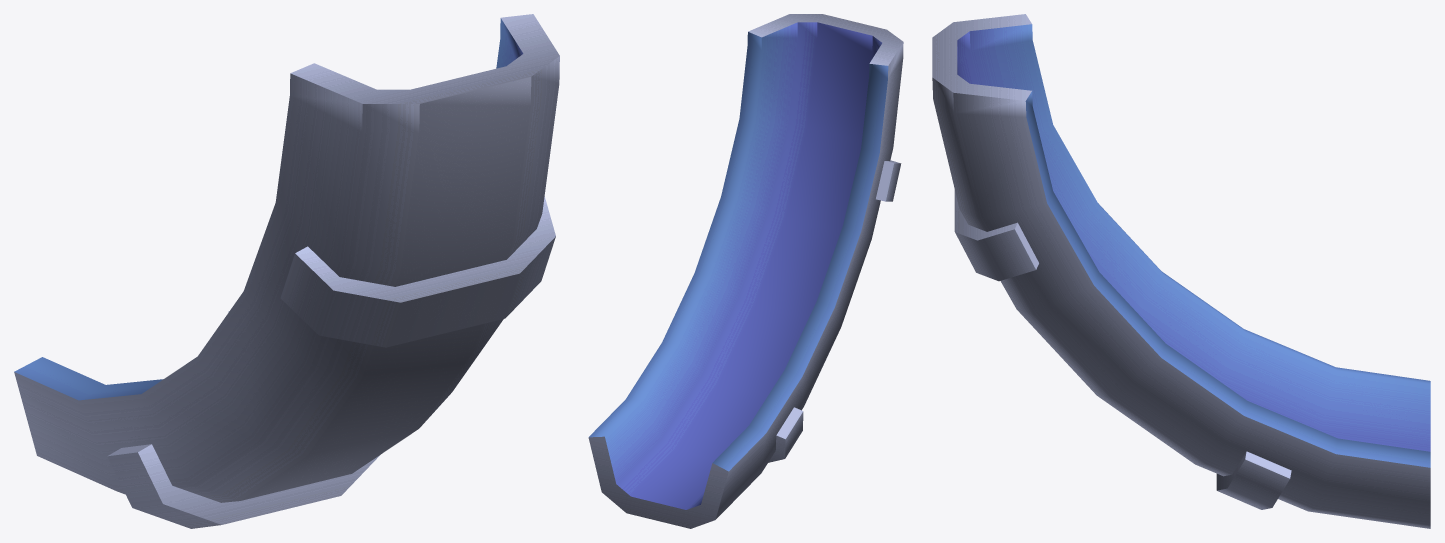
Rendered from coaster-flume-straight-bend.glb.
The picture shows the model from 3 angles, left to right: view 1: azimuth 30°, elevation 25°; view 2: azimuth 150°, elevation 25°; view 3: azimuth 270°, elevation 25°; orthographic projection. The views are drawn at different scales.
Parts seen in each view (by area): view 1: coaster-flume-straight-bend; view 2: coaster-flume-straight-bend; view 3: coaster-flume-straight-bend.
Boxes of the visible parts, <box> form: coaster-flume-straight-bend: <box>14,14,559,528</box>; coaster-flume-straight-bend: <box>588,14,903,528</box>; coaster-flume-straight-bend: <box>932,14,1430,528</box>.
Size of the model in its own units: 2.53 by 6 by 6.
1 material, 1 textured.
